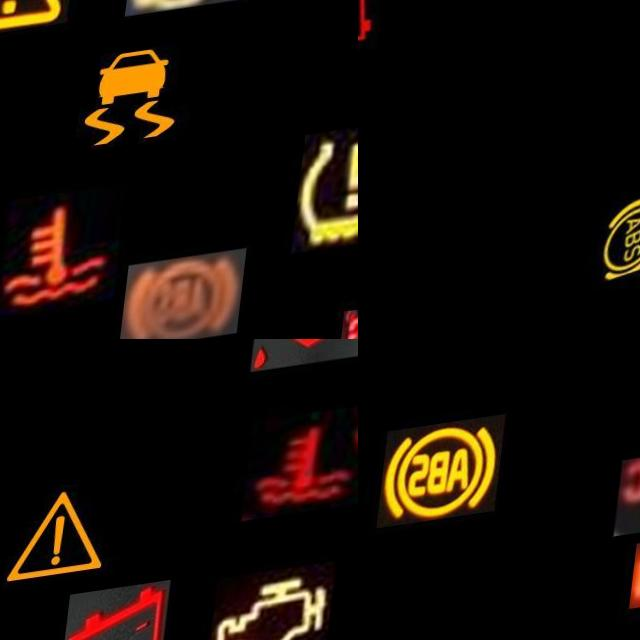Central Warning lamp: (1, 475, 130, 606), (0, 0, 81, 42)
Engine cooling system: (7, 192, 136, 323), (248, 420, 358, 534)
